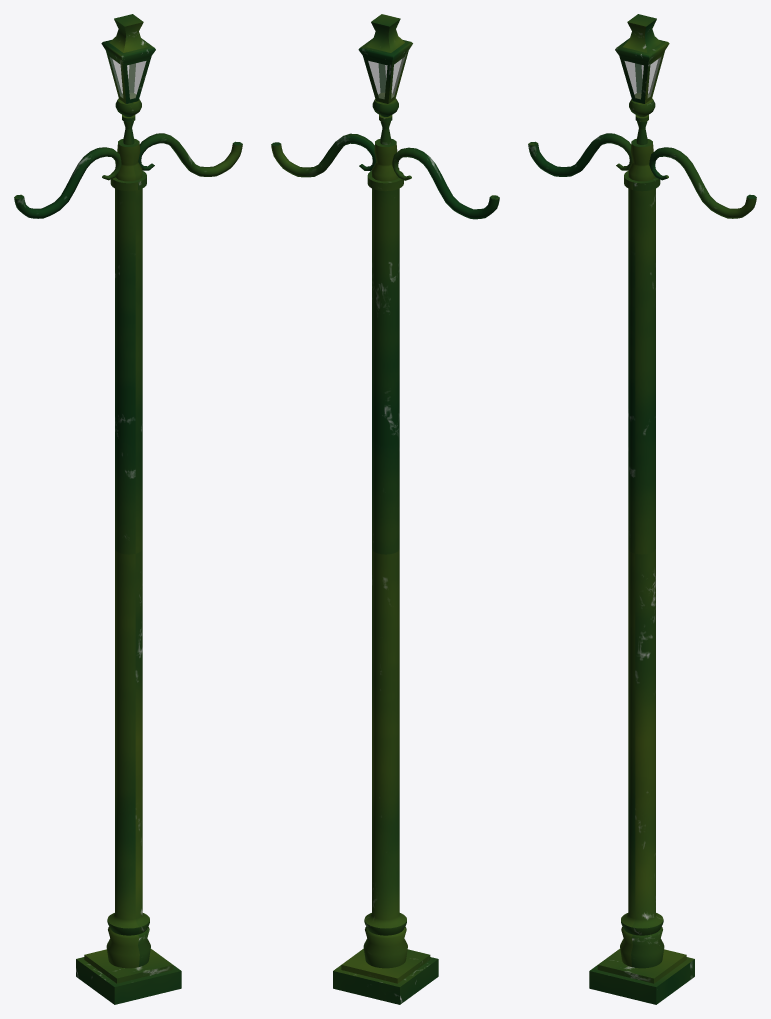
File: poste.fbx
The picture shows the model from 3 angles, left to right: view 1: azimuth 30°, elevation 25°; view 2: azimuth 150°, elevation 25°; view 3: azimuth 330°, elevation 25°; orthographic projection.
Visible parts, largest first — view 1: Poste, faro; view 2: Poste, faro; view 3: Poste, faro.
Part boxes in pixels (x1,y1,x2,y2): Poste: [14, 121, 242, 1004]; faro: [101, 14, 155, 121]; Poste: [271, 121, 499, 1004]; faro: [358, 14, 412, 121]; Poste: [528, 121, 756, 1004]; faro: [615, 14, 669, 121].
Size of the model in its own units: 1.69 by 6.87 by 0.5.
2 materials, 1 textured.
